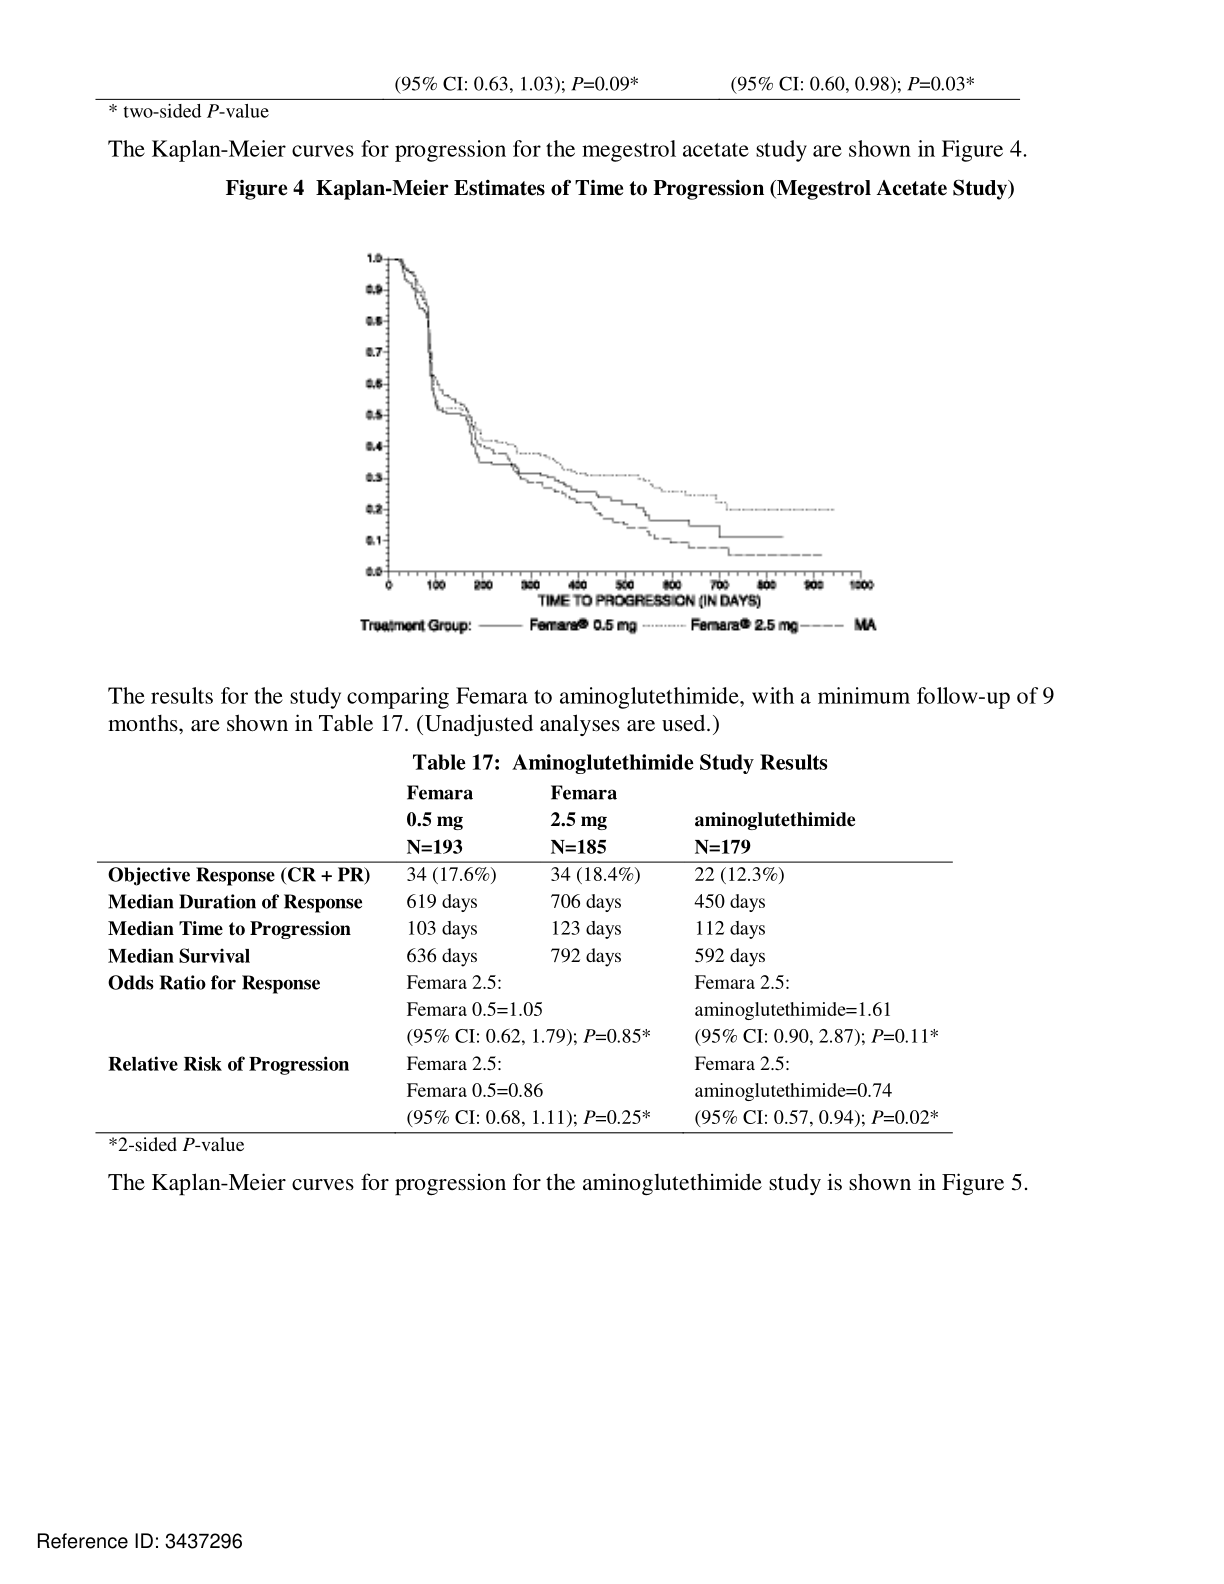partial_lined: (96, 778, 957, 1137)
